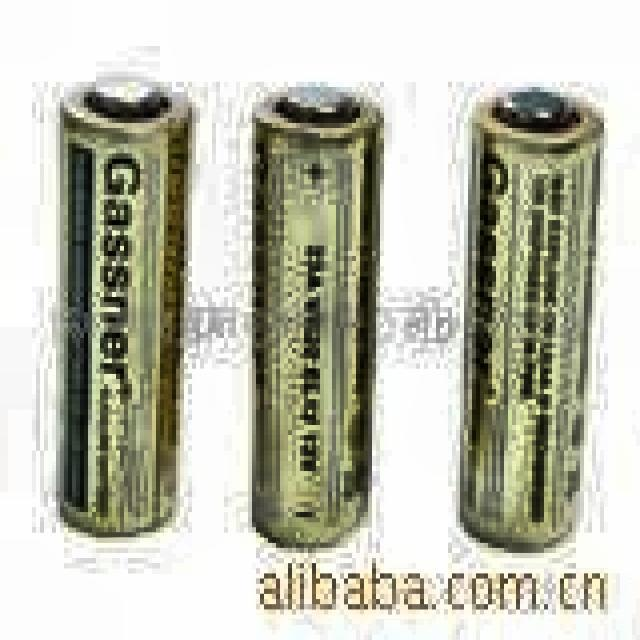battery: (461, 88, 602, 548), (254, 88, 381, 545), (62, 83, 189, 534)
